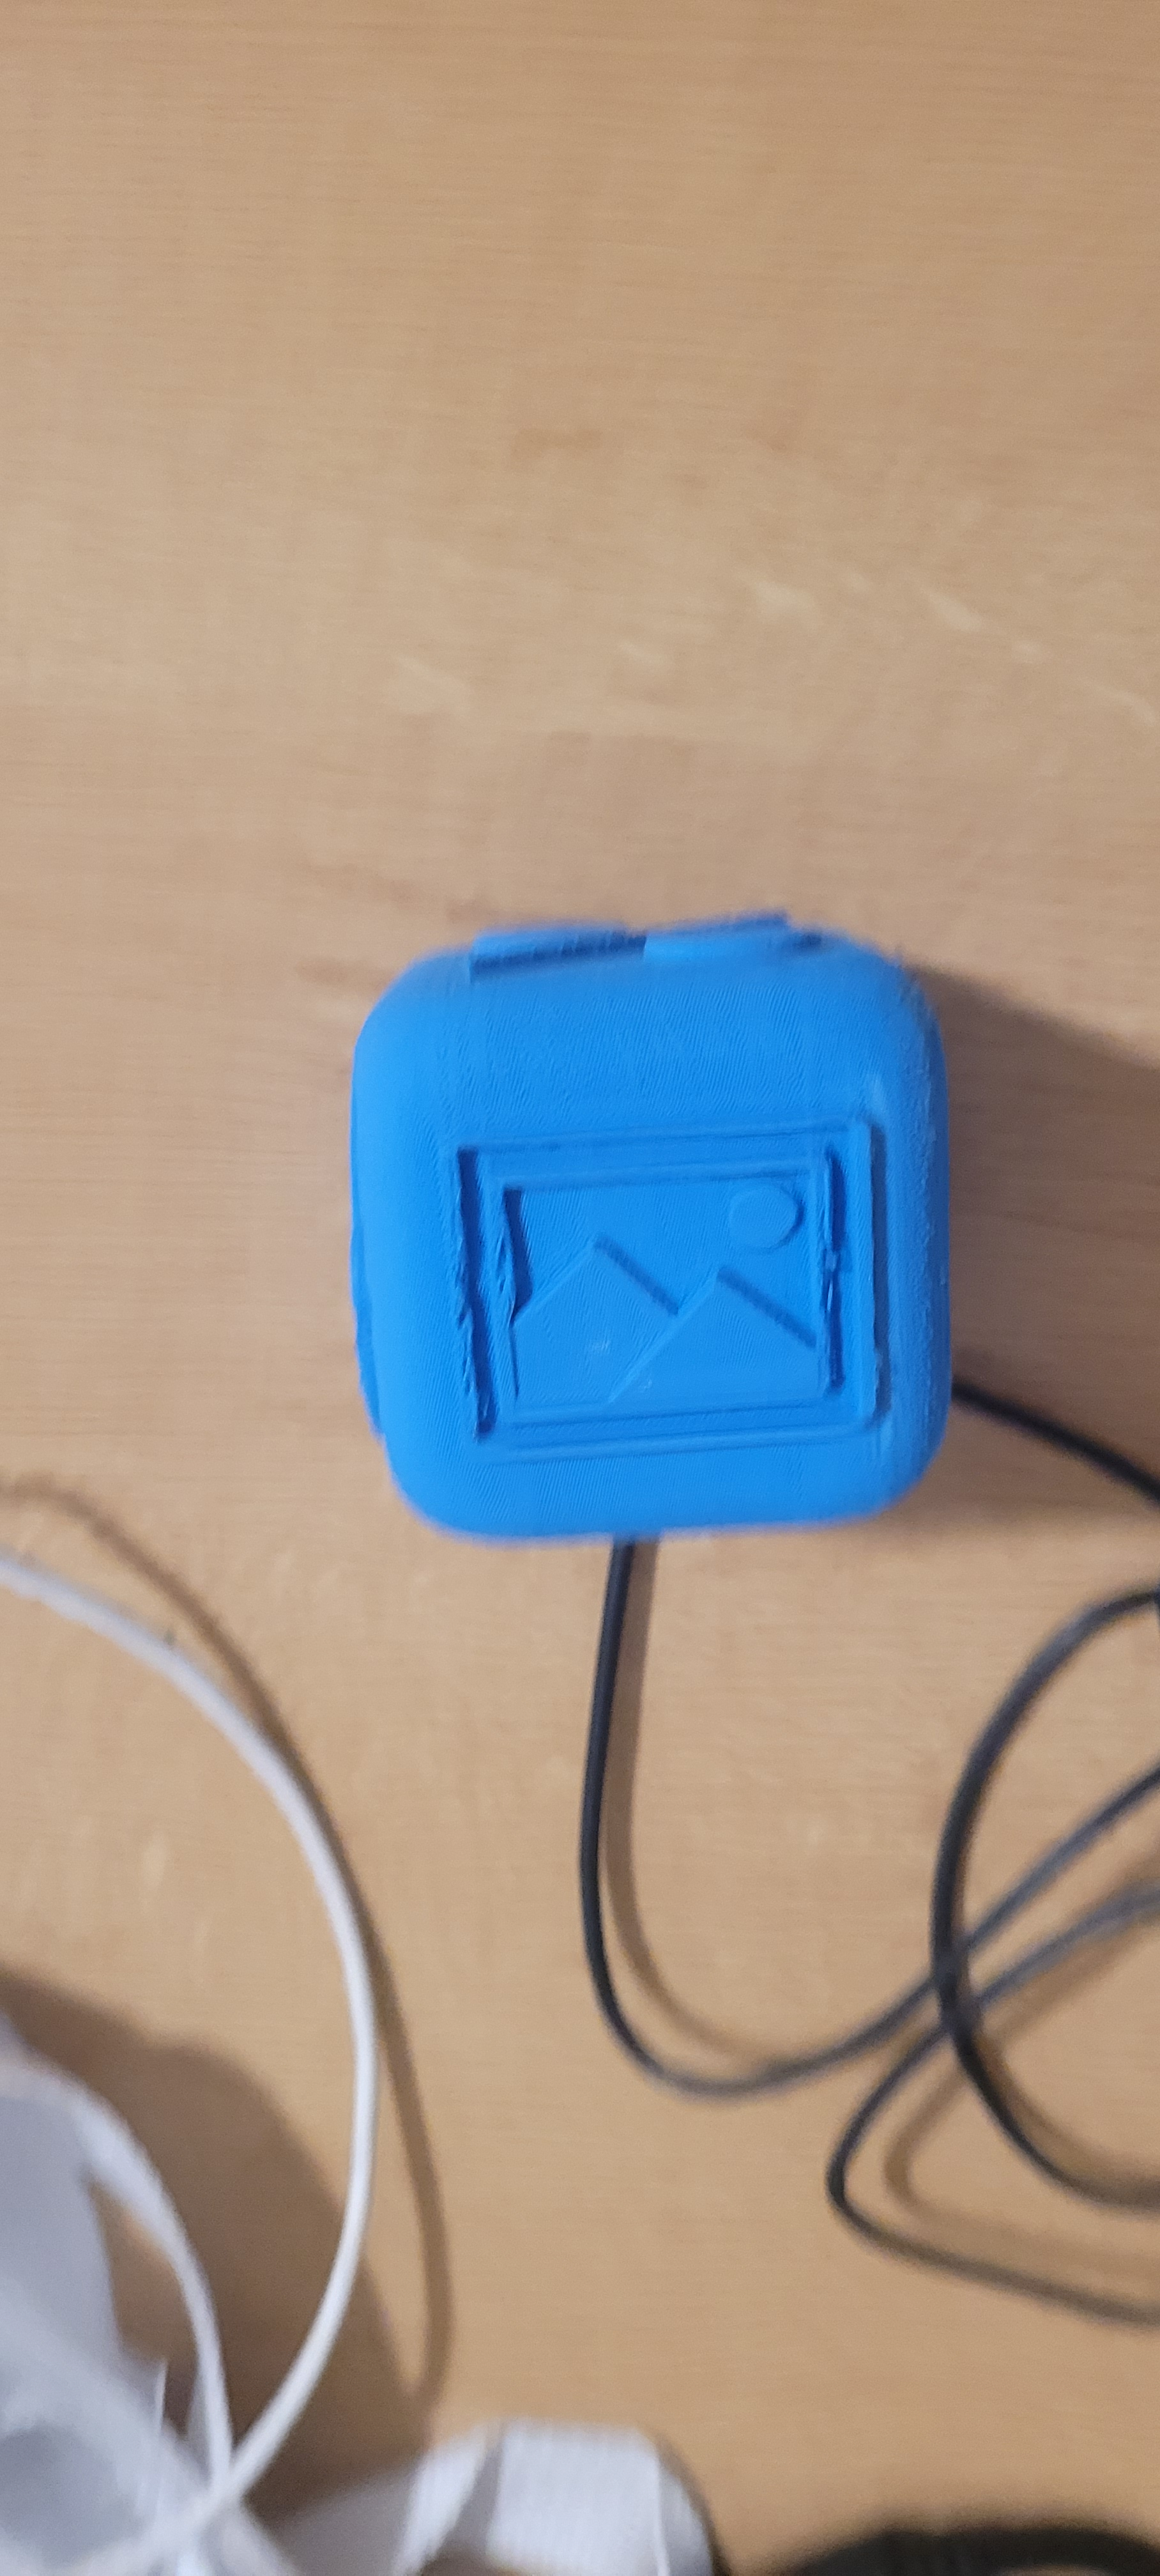Story: (419, 1125, 907, 1487)
